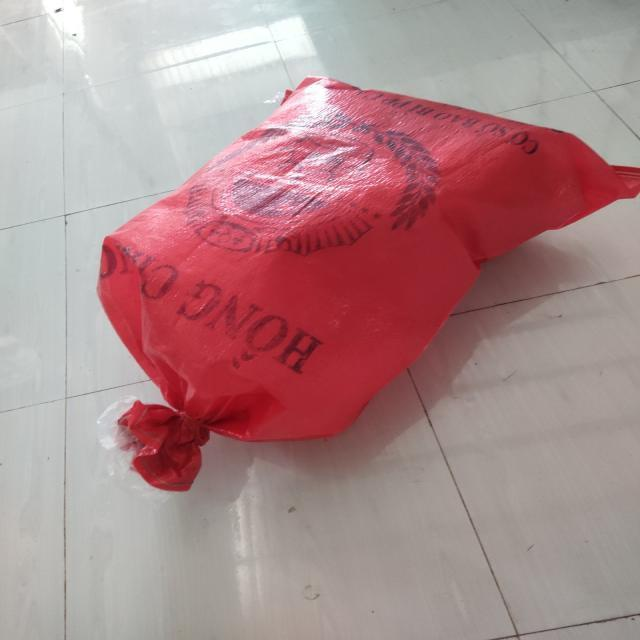gunny_bag: (97, 76, 640, 491)
